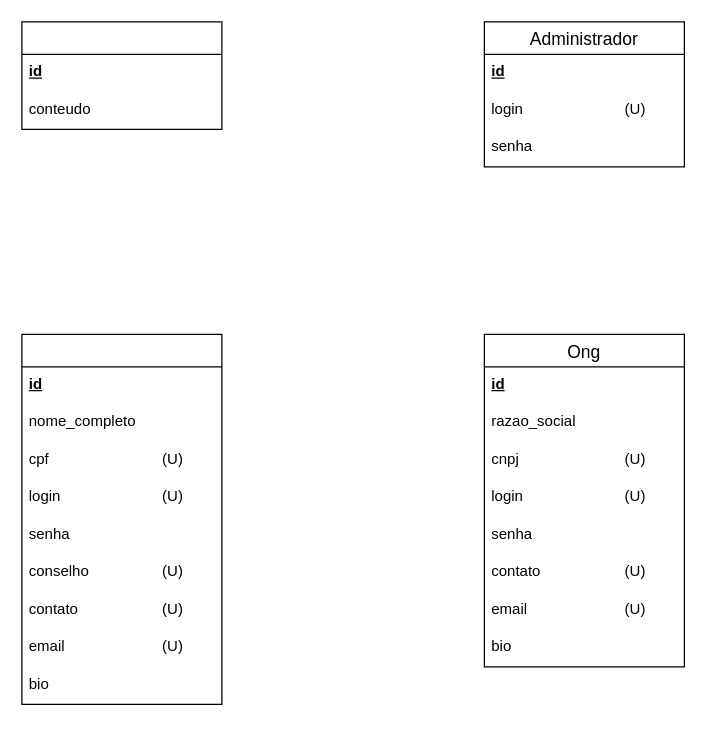
Some shapes in this 706 by 730 pixel diagram are drawn without their labels. Each missing label, with the box of its shape:
Profissional: (21, 333, 222, 704)
Relato: (21, 21, 222, 129)
